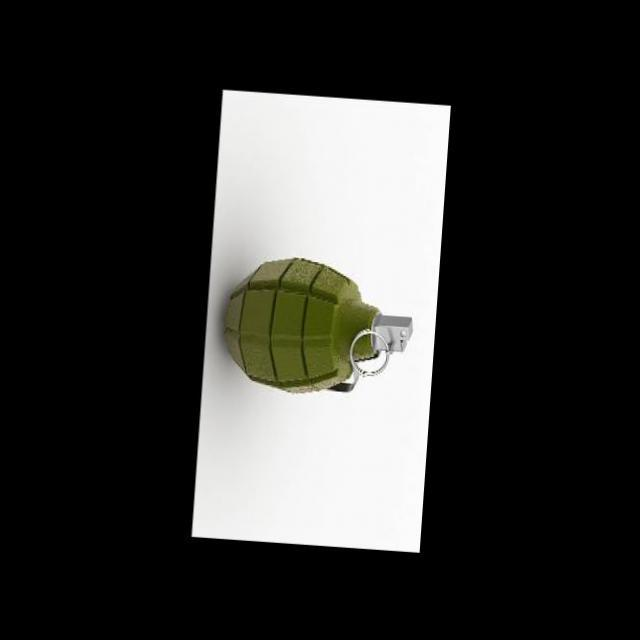grenade: (214, 247, 416, 408)
